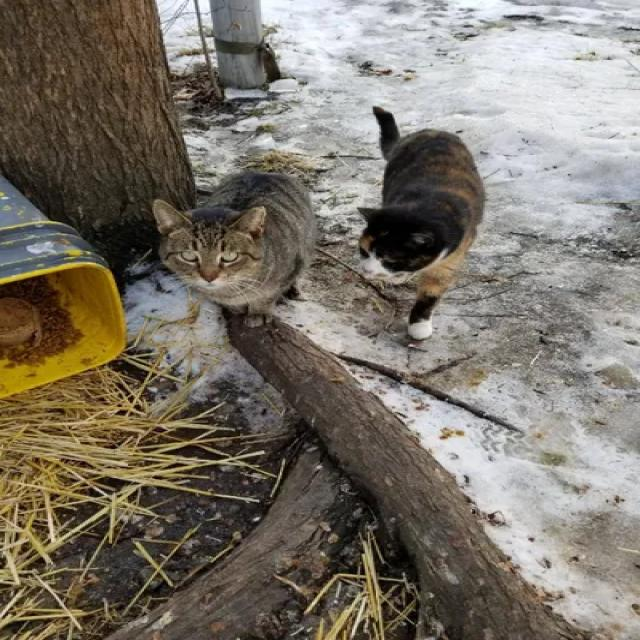cat: (358, 106, 485, 339), (153, 171, 315, 327)
